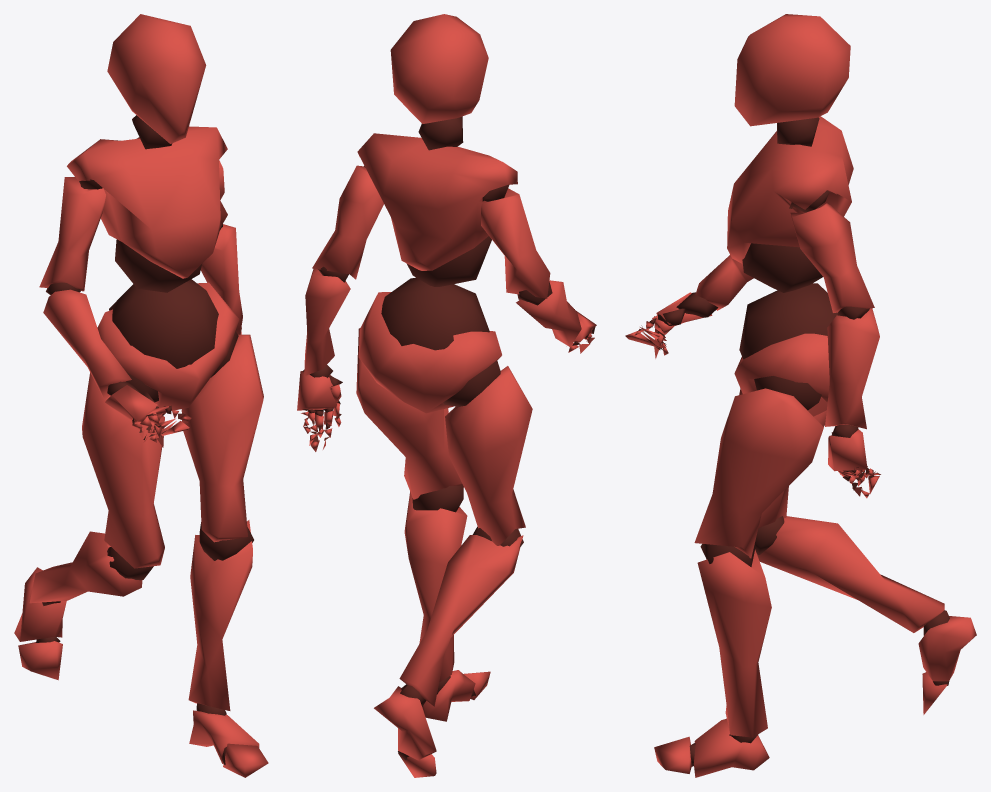
3 views of the same model, side by side, from view 1: azimuth 30°, elevation 25°; view 2: azimuth 150°, elevation 25°; view 3: azimuth 270°, elevation 25° (orthographic). The views are drawn at different scales.
Visible parts, largest first — view 1: Beta_Surface; view 2: Beta_Surface; view 3: Beta_Surface.
Boxes of the visible parts, x1,y1,x2,y2 form: Beta_Surface: [14, 14, 268, 777]; Beta_Surface: [297, 14, 596, 777]; Beta_Surface: [625, 14, 976, 777].
Size of the model in its own units: 4.72 by 14.36 by 6.21.
